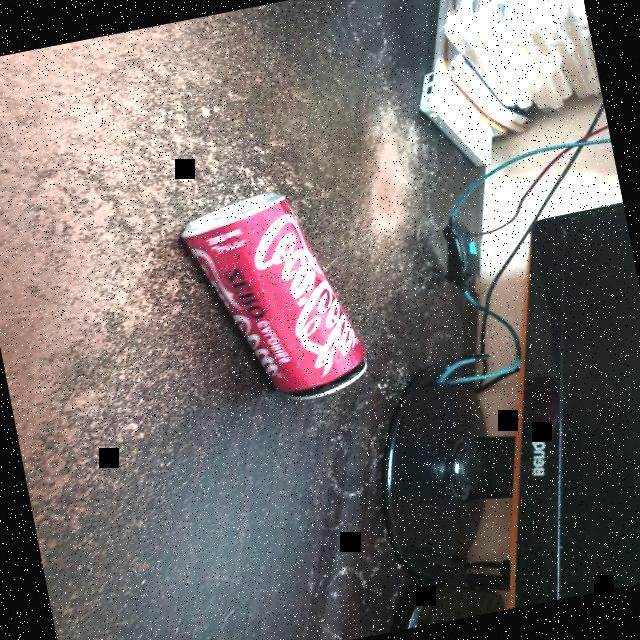can: (172, 179, 378, 417)
